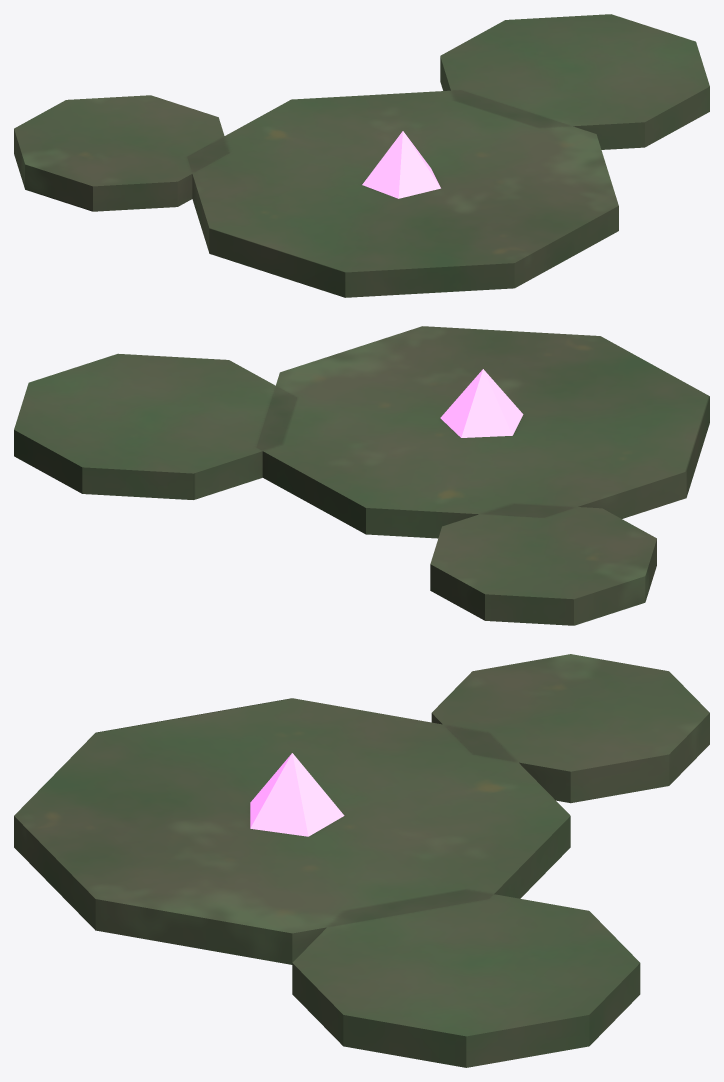
The model's file is vitoria_regia.glb.
3 renders of one model, top to bottom at view 1: azimuth 30°, elevation 25°; view 2: azimuth 150°, elevation 25°; view 3: azimuth 270°, elevation 25°, orthographic. The views are drawn at different scales.
Parts seen in each view (by area): view 1: vitoria_regia; view 2: vitoria_regia; view 3: vitoria_regia.
Boxes of the visible parts, x1,y1,x2,y2 form: vitoria_regia: (14, 14, 709, 297); vitoria_regia: (14, 326, 709, 625); vitoria_regia: (14, 654, 709, 1067).
Bounding box in the file's own units: 0.52 × 0.06 × 0.4.
Materials: 2 (1 with a texture image).
